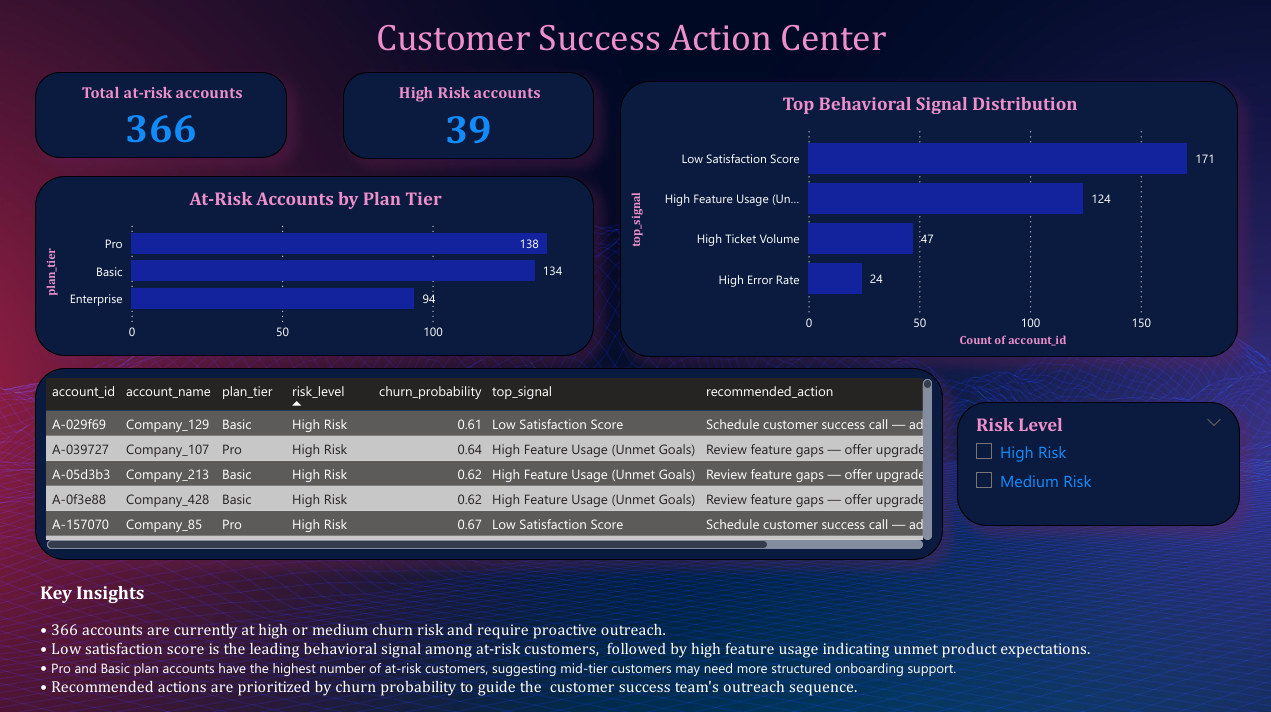

Layout of this report page (visuals, bound fields, positions):
{"tool":"powerbi","page":{"name":"Customer Success Action","canvas":[1280,720],"ordinal":4},"visuals":[{"type":"card","title":"Total at-risk accounts","fields":{"Values":["customer_success_actions.At-Risk-Account"]},"box":[38.1,76.1,251.5,85.9],"z":0},{"type":"card","title":"High Risk accounts","fields":{"Values":["customer_success_actions.High Risk Accounts"]},"box":[345.7,76.2,251.1,86.8],"z":1000},{"type":"clusteredBarChart","title":"Top Behavioral Signal Distribution","fields":{"Y":["CountNonNull(customer_success_actions.account_id)"],"Category":["customer_success_actions.top_signal"]},"box":[623.5,85,617.2,276.1],"z":2000},{"type":"clusteredBarChart","title":"At-Risk Accounts by Plan Tier","fields":{"Y":["CountNonNull(customer_success_actions.account_id)"],"Category":["customer_success_actions.plan_tier"]},"box":[38.1,180.1,558.6,180.1],"z":3000},{"type":"tableEx","title":"Churn Risk by Subscription Plan","fields":{"Values":["customer_success_actions.account_id","customer_success_actions.account_name","customer_success_actions.plan_tier","customer_success_actions.risk_level","customer_success_actions.churn_probability","customer_success_actions.top_signal","customer_success_actions.recommended_action"]},"box":[38.1,372,908.3,191.9],"z":4000},{"type":"textbox","box":[38.1,579.7,1198.8,131.4],"z":5000},{"type":"slicer","title":"Churn Risk by Subscription Plan","fields":{"Values":["customer_success_actions.risk_level"]},"box":[959.5,406.2,283.9,123.6],"z":6000},{"type":"textbox","box":[24.1,13.9,1219.5,58.3],"z":7000}]}

Visuals, with their boxes in screenshot pixels (x1, y1, x2, y2), scaled from the page's 1280x720 canvas onto the 1271x712 screenshot:
"Total at-risk accounts" card: 38, 75, 288, 160
"High Risk accounts" card: 343, 75, 593, 161
"Top Behavioral Signal Distribution" clusteredBarChart: 619, 84, 1232, 357
"At-Risk Accounts by Plan Tier" clusteredBarChart: 38, 178, 593, 356
"Churn Risk by Subscription Plan" tableEx: 38, 368, 940, 558
textbox: 38, 573, 1228, 703
"Churn Risk by Subscription Plan" slicer: 953, 402, 1235, 524
textbox: 24, 14, 1235, 71
